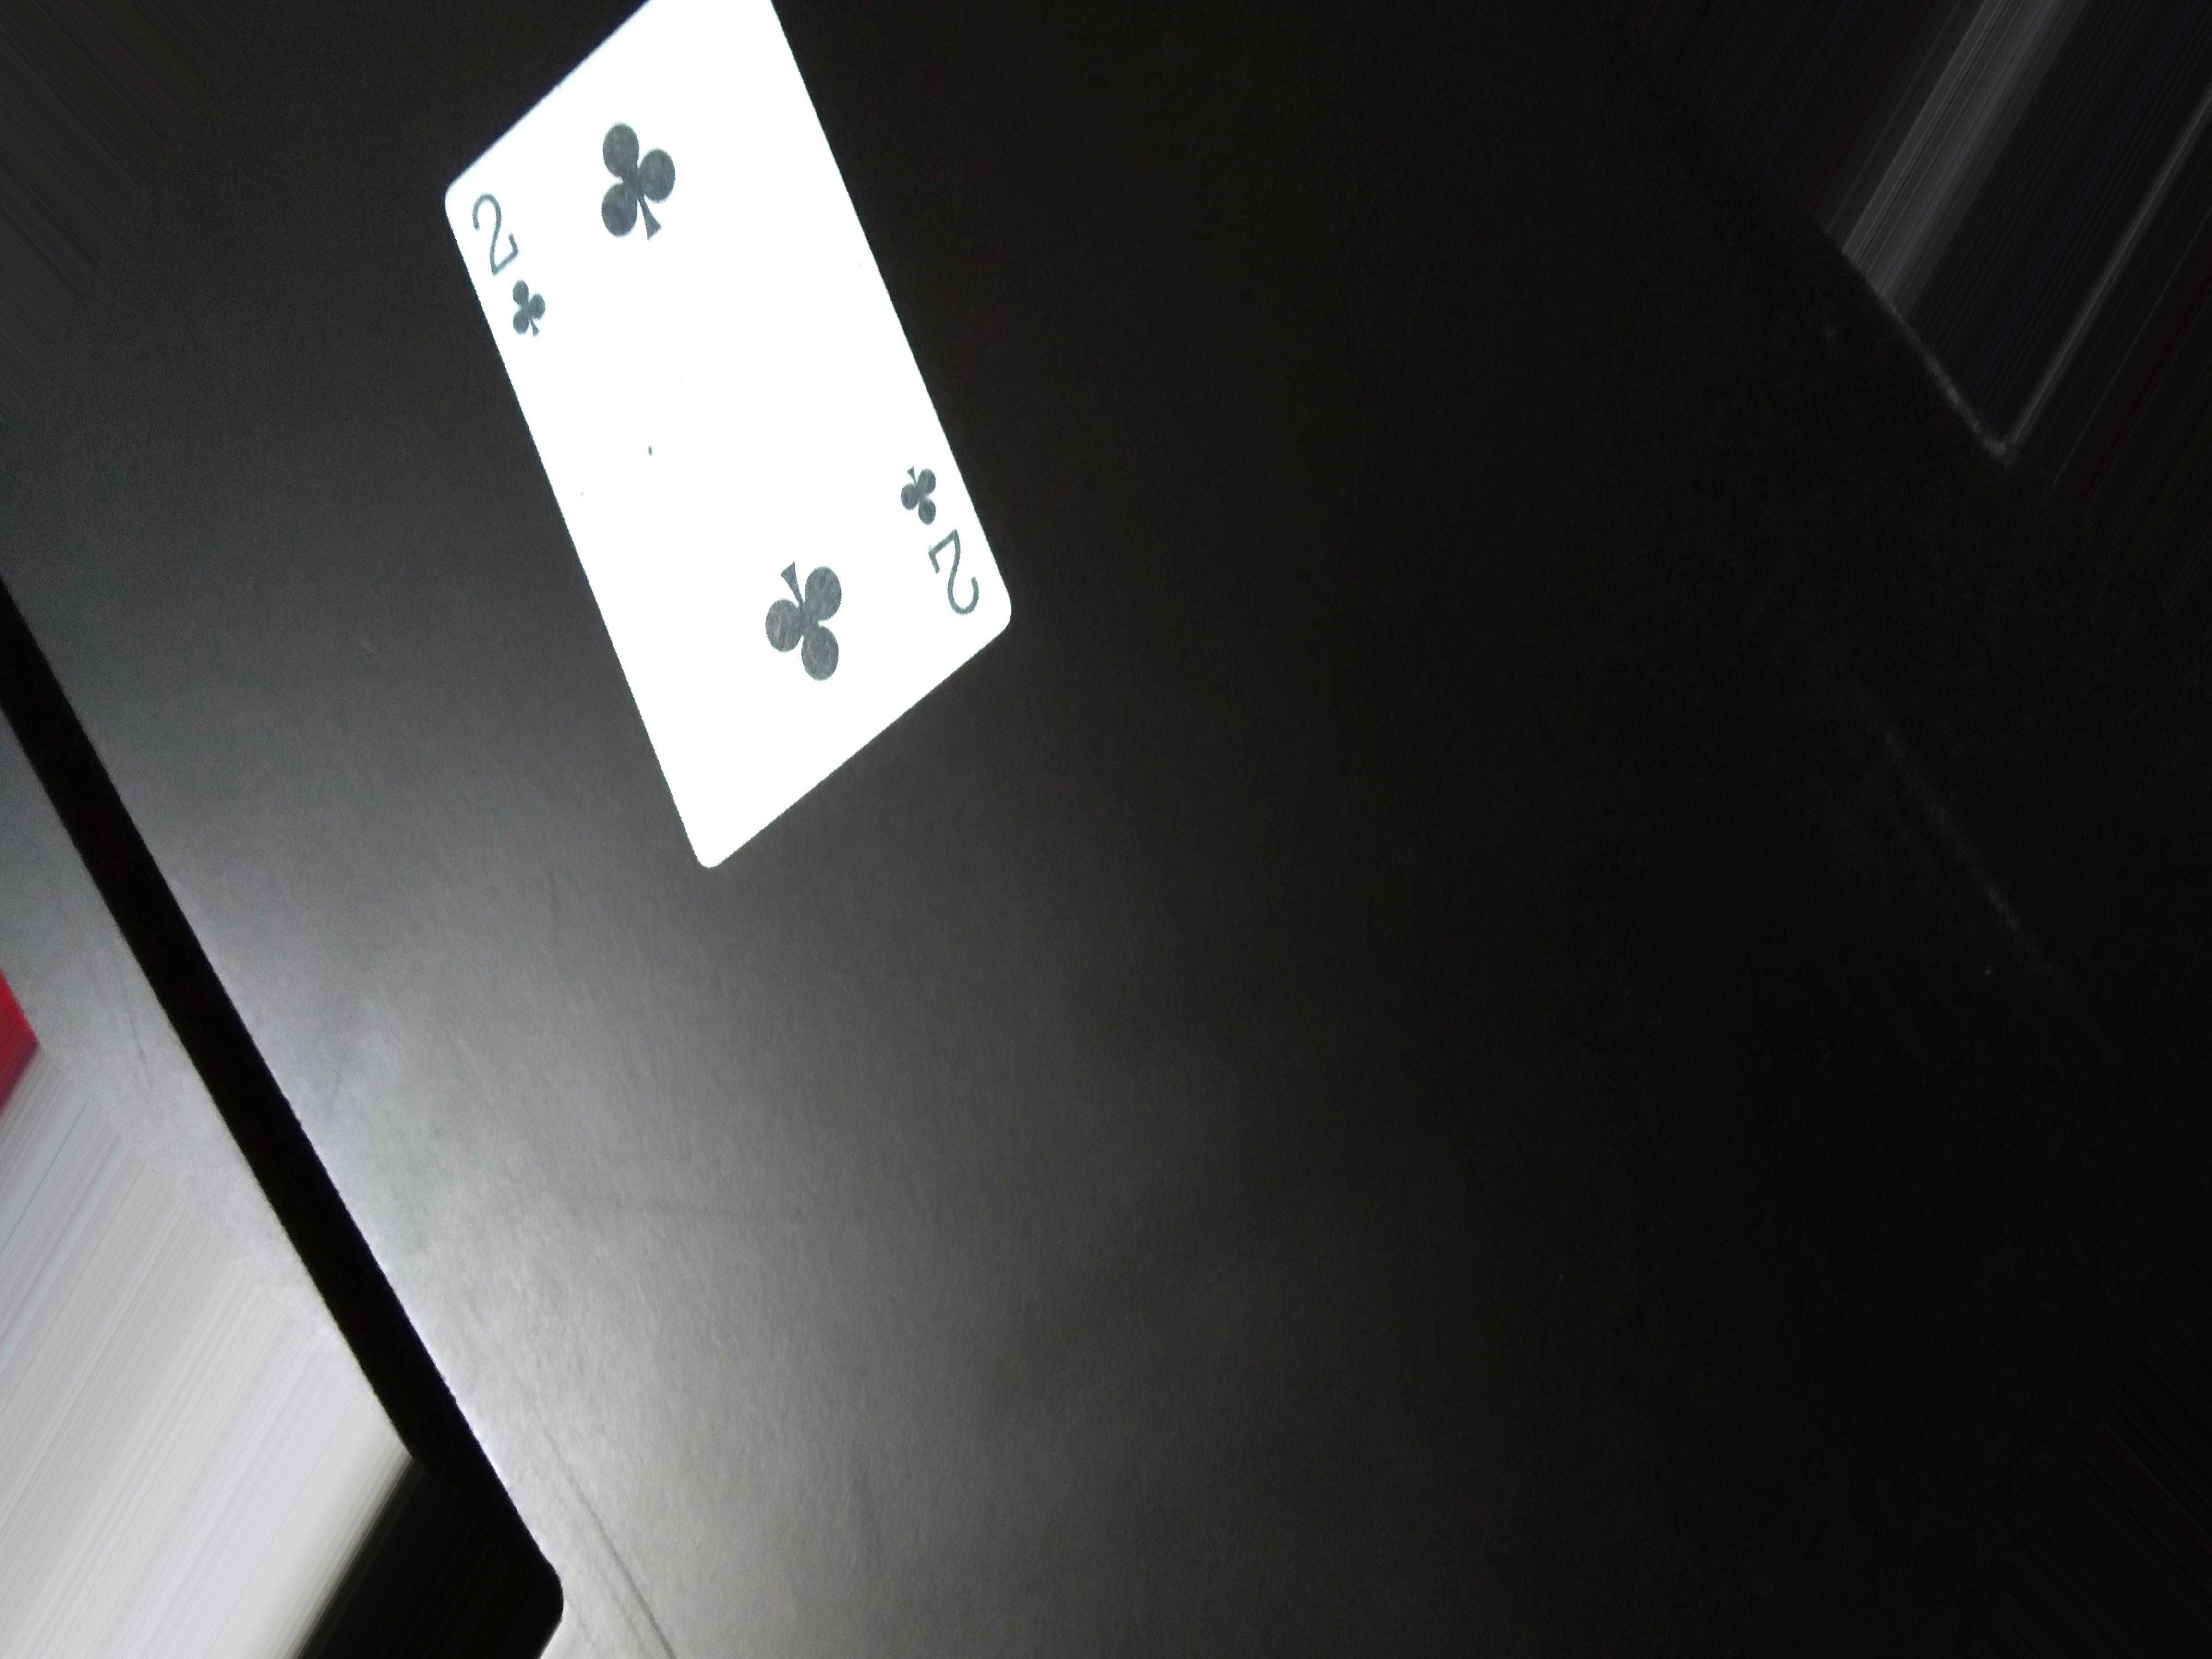2C: (482, 169, 554, 364)
